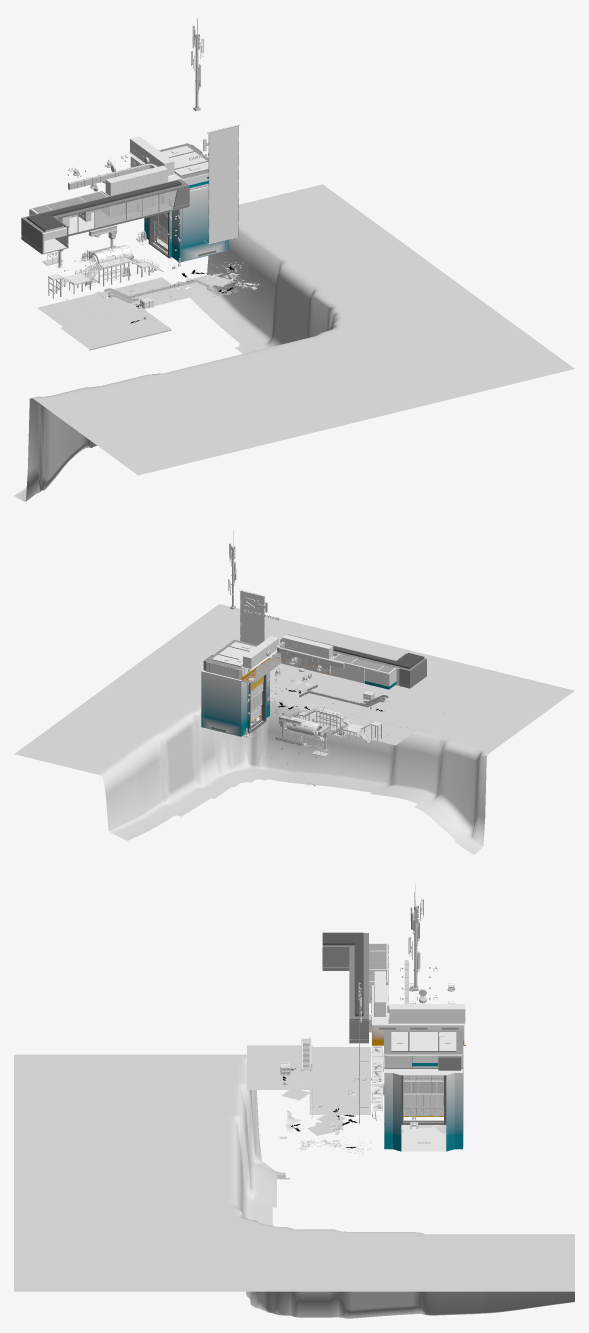
Rendered from cell_166_114.fbx.
The picture shows the model from 3 angles, top to bottom: view 1: azimuth 30°, elevation 25°; view 2: azimuth 150°, elevation 25°; view 3: azimuth 270°, elevation 25°; orthographic projection. The views are drawn at different scales.
Visible parts, largest first — view 1: SpaceCenter_WaterMesh_x13_y1.mo, SM_I_RoadFacility_Ground_FutureTech_H_01B.mo.001, SM_H_Branding_Poster_Banner_01.mo, SM_H_Building_FutureTech_HStairs_04_ExterWall_01C.mo, SM_H_Building_FutureTech_HLight_01_InterWall_09.mo, SM_H_Building_FutureTech_HStairs_04_InterWall_01F.mo, SM_H_Building_FutureTech_HLight_01_InterWall_11D.mo, SM_H_WalkwaySystem_MetalSupport_07.mo, SM_H_Building_FutureTech_HLight_01_InterWall_03.mo, SM_H_FutureTech_Furniture_BaseStation_01.mo.003; view 2: SpaceCenter_WaterMesh_x13_y1.mo, SM_H_Building_FutureTech_HLight_01_InterWall_09.mo, SM_I_RoadFacility_Ground_FutureTech_H_01B.mo.001, SM_H_Building_FutureTech_HLight_01_InterWall_11D.mo, SM_H_Building_FutureTech_HStairs_04_InterWall_01F.mo, SM_H_Building_FutureTech_HStairs_04_ExterWall_01C.mo, SM_H_Building_FutureTech_HLight_01_InterWall_03.mo, SM_H_Branding_Poster_Banner_01.mo, SM_H_WalkwaySystem_MetalSupport_07.mo, SM_H_Customiz_SlidingDoor_01_Frame.mo.004, SM_FutureTech_ISS_Destiny_01.mo.003; view 3: SpaceCenter_WaterMesh_x13_y1.mo, SM_I_RoadFacility_Ground_FutureTech_H_01B.mo.001, SM_H_Building_FutureTech_HLight_01_InterWall_09.mo, SM_H_Building_FutureTech_HLight_01_InterWall_11D.mo, SM_H_Building_FutureTech_HStairs_04_ExterWall_01C.mo, SM_H_Building_FutureTech_HLight_01_InterWall_03.mo, SM_H_Customiz_SlidingDoor_01C.mo.001, SM_H_WalkwaySystem_MetalSupport_07.mo, SM_H_FutureTech_Furniture_BaseStation_01.mo.003, SM_H_Building_FutureTech_HStairs_04_InterWall_01F.mo, SM_H_Customiz_SlidingDoor_01_Frame.mo.004.
Boxes of the visible parts, <box> form: SpaceCenter_WaterMesh_x13_y1.mo: <box>14,184,574,501</box>; SM_I_RoadFacility_Ground_FutureTech_H_01B.mo.001: <box>37,277,189,350</box>; SM_H_Branding_Poster_Banner_01.mo: <box>204,124,240,244</box>; SM_H_Building_FutureTech_HStairs_04_ExterWall_01C.mo: <box>21,179,189,254</box>; SM_H_Building_FutureTech_HLight_01_InterWall_09.mo: <box>144,186,228,262</box>; SM_H_Building_FutureTech_HStairs_04_InterWall_01F.mo: <box>29,191,175,253</box>; SM_H_Building_FutureTech_HLight_01_InterWall_11D.mo: <box>104,136,183,196</box>; SM_H_WalkwaySystem_MetalSupport_07.mo: <box>48,257,163,298</box>; SM_H_Building_FutureTech_HLight_01_InterWall_03.mo: <box>159,143,208,190</box>; SM_H_FutureTech_Furniture_BaseStation_01.mo.003: <box>191,17,203,111</box>; SpaceCenter_WaterMesh_x13_y1.mo: <box>14,604,574,854</box>; SM_H_Building_FutureTech_HLight_01_InterWall_09.mo: <box>201,670,269,736</box>; SM_I_RoadFacility_Ground_FutureTech_H_01B.mo.001: <box>298,696,443,745</box>; SM_H_Building_FutureTech_HLight_01_InterWall_11D.mo: <box>241,634,334,683</box>; SM_H_Building_FutureTech_HStairs_04_InterWall_01F.mo: <box>282,640,399,689</box>; SM_H_Building_FutureTech_HStairs_04_ExterWall_01C.mo: <box>280,634,426,688</box>; SM_H_Building_FutureTech_HLight_01_InterWall_03.mo: <box>203,639,261,679</box>; SM_H_Branding_Poster_Banner_01.mo: <box>237,589,265,645</box>; SM_H_WalkwaySystem_MetalSupport_07.mo: <box>291,708,382,743</box>; SM_H_Customiz_SlidingDoor_01_Frame.mo.004: <box>247,674,266,732</box>; SM_FutureTech_ISS_Destiny_01.mo.003: <box>286,717,321,737</box>; SpaceCenter_WaterMesh_x13_y1.mo: <box>14,1054,574,1318</box>; SM_I_RoadFacility_Ground_FutureTech_H_01B.mo.001: <box>247,1045,370,1114</box>; SM_H_Building_FutureTech_HLight_01_InterWall_09.mo: <box>384,1069,463,1151</box>; SM_H_Building_FutureTech_HLight_01_InterWall_11D.mo: <box>369,971,465,1045</box>; SM_H_Building_FutureTech_HStairs_04_ExterWall_01C.mo: <box>322,932,368,1043</box>; SM_H_Building_FutureTech_HLight_01_InterWall_03.mo: <box>384,1030,463,1070</box>; SM_H_Customiz_SlidingDoor_01C.mo.001: <box>403,1093,443,1116</box>; SM_H_WalkwaySystem_MetalSupport_07.mo: <box>371,1033,384,1111</box>; SM_H_FutureTech_Furniture_BaseStation_01.mo.003: <box>408,883,423,990</box>; SM_H_Building_FutureTech_HStairs_04_InterWall_01F.mo: <box>322,935,389,1003</box>; SM_H_Customiz_SlidingDoor_01_Frame.mo.004: <box>401,1075,446,1124</box>.
Bounding box in the file's own units: 128 × 107 × 128.
